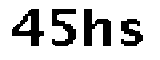4: (9, 5, 45, 48)
5: (49, 4, 79, 50)
h: (82, 6, 115, 50)
s: (118, 17, 149, 48)
